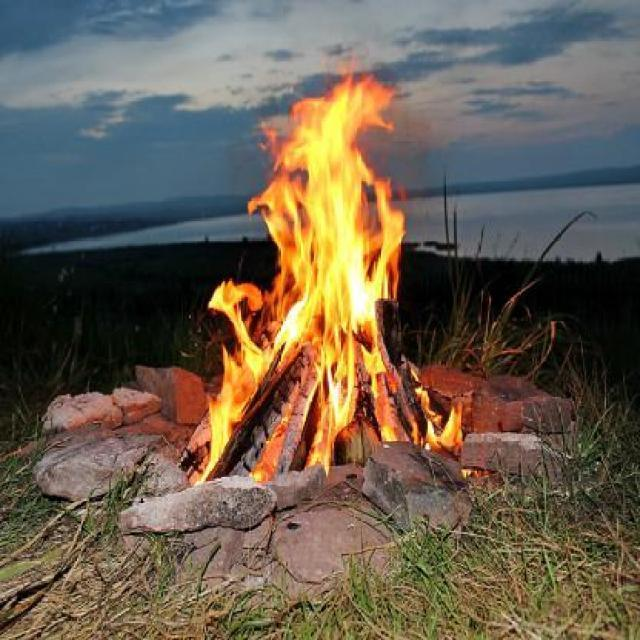Fire: (204, 70, 410, 474), (422, 397, 465, 452)
